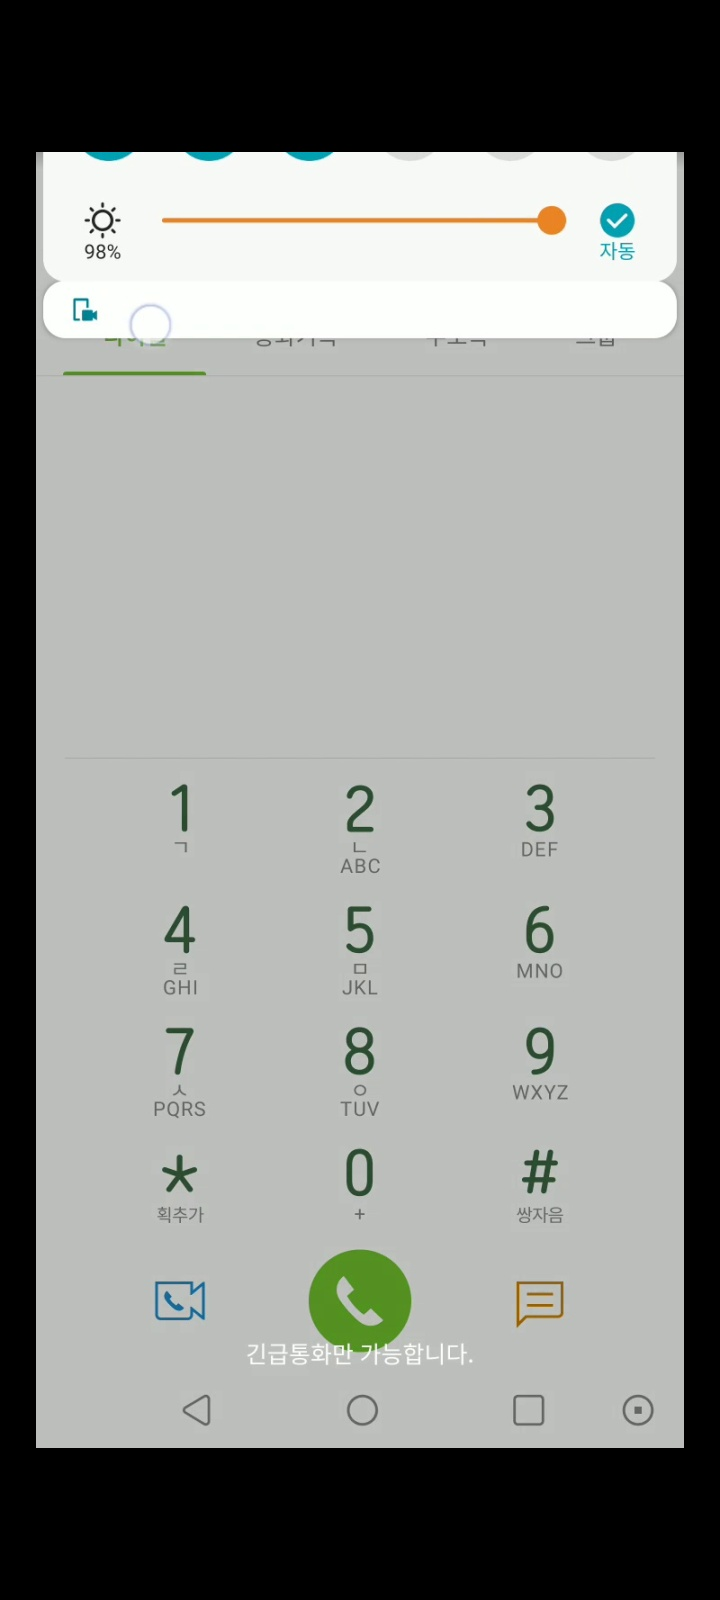Cursor: (128, 303, 173, 348)
